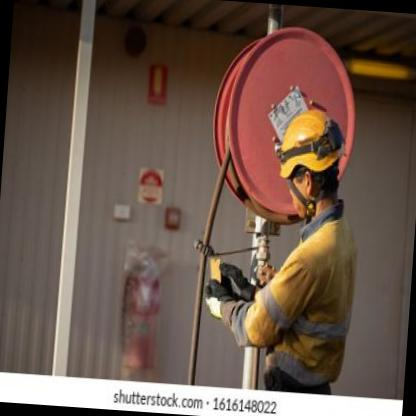Gloves: (216, 261, 256, 303), (202, 278, 234, 324)
